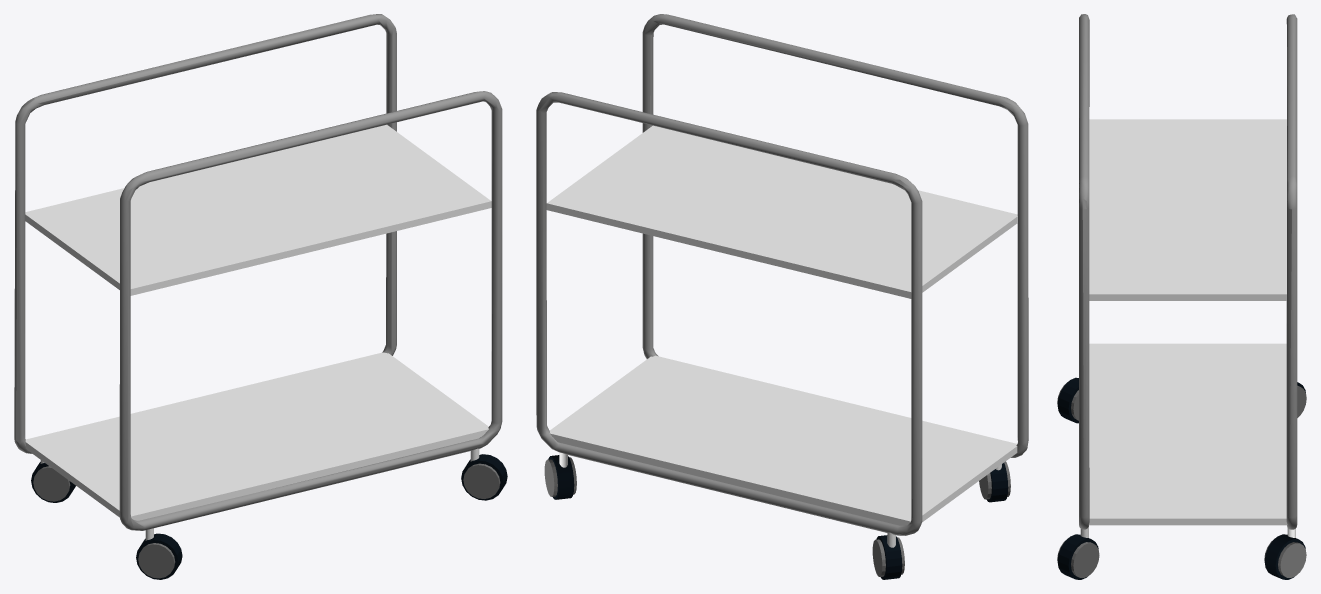
The model's file is Hospital trolley.FBX.
3 views of the same model, side by side, from view 1: azimuth 30°, elevation 25°; view 2: azimuth 150°, elevation 25°; view 3: azimuth 270°, elevation 25° (orthographic). The views are drawn at different scales.
Visible parts, largest first — view 1: hospital trolley; view 2: hospital trolley; view 3: hospital trolley.
Boxes of the visible parts, left/top/right/bottom form: hospital trolley: left=14, top=14, right=507, bottom=579; hospital trolley: left=536, top=14, right=1028, bottom=579; hospital trolley: left=1057, top=14, right=1306, bottom=579.
Size of the model in its own units: 32.09 by 18.43 by 32.5.
Materials: 2 (1 with a texture image).
